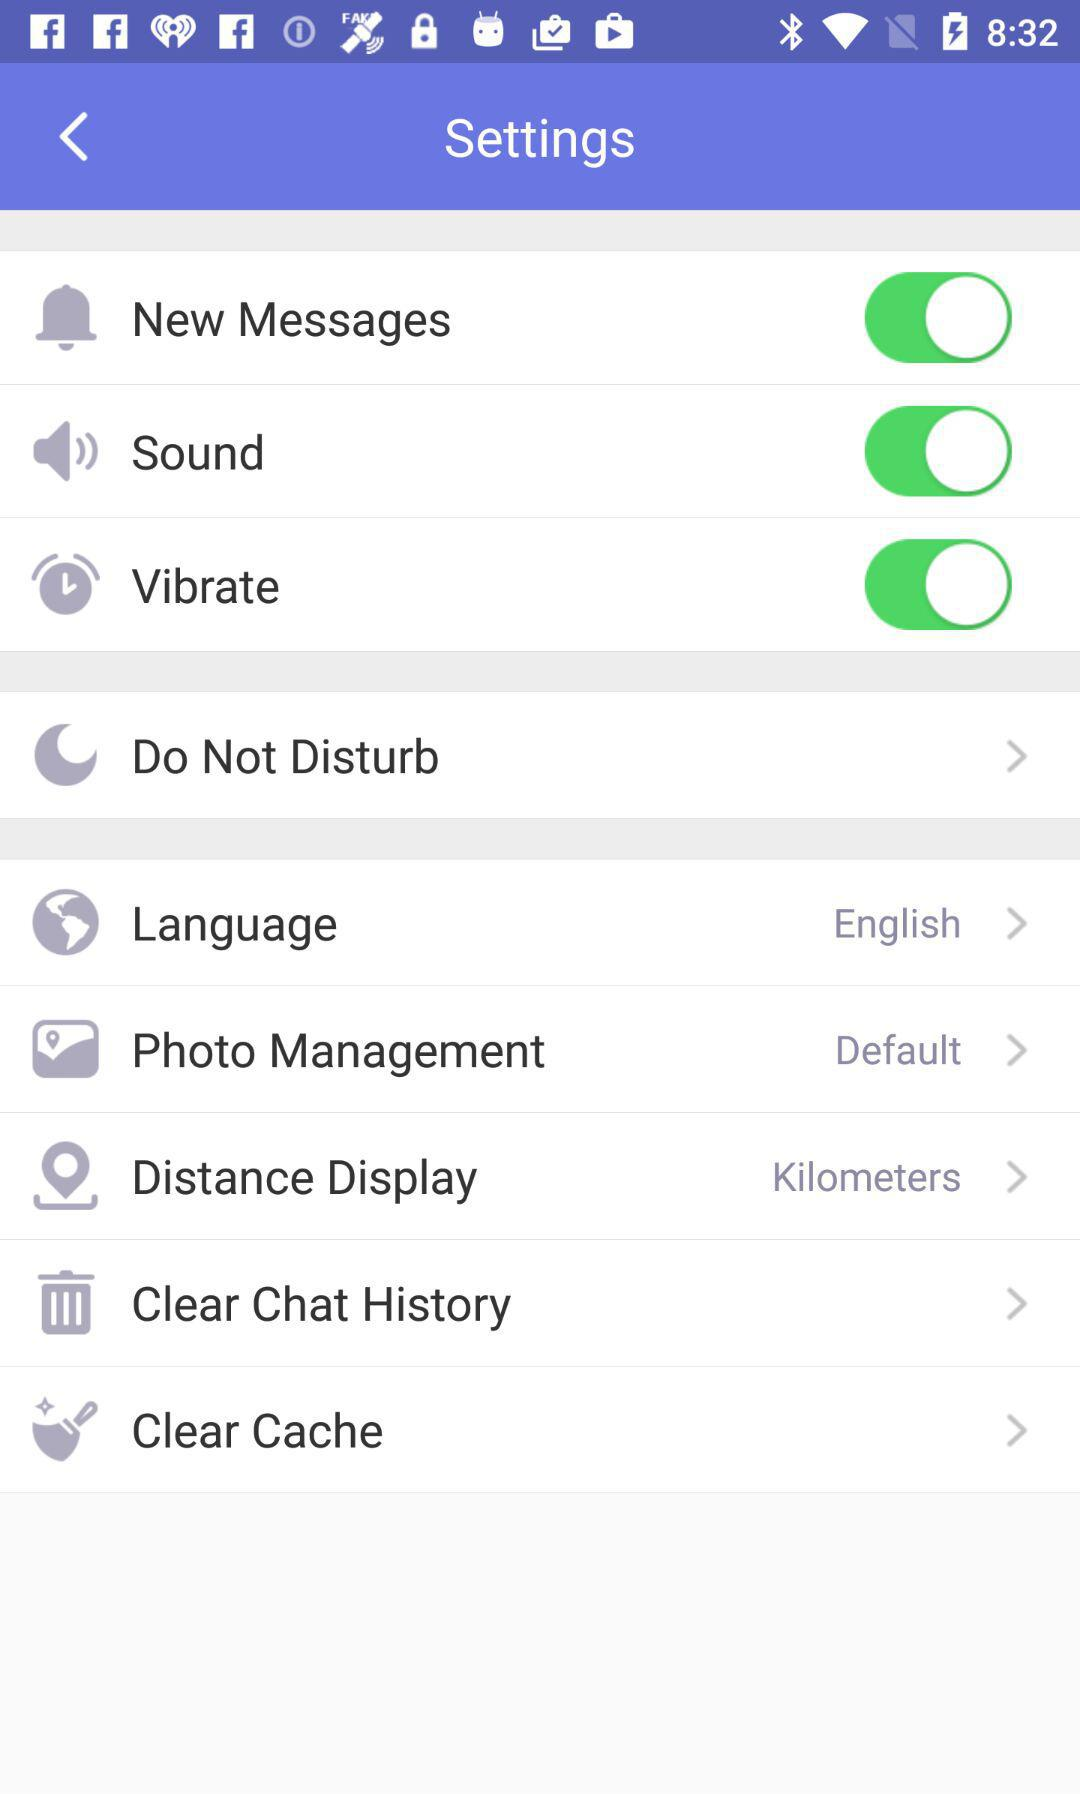Icon: (33, 1140, 100, 1211), (31, 552, 102, 616), (36, 284, 99, 352), (58, 111, 90, 164), (1004, 738, 1030, 774), (1004, 1158, 1029, 1196), (1004, 1412, 1029, 1448), (1004, 1285, 1029, 1321), (1004, 1032, 1029, 1067), (1004, 906, 1029, 942)
Image: (32, 888, 101, 957), (32, 1395, 100, 1463), (32, 1019, 101, 1080), (35, 723, 99, 788), (33, 420, 100, 483), (38, 1269, 97, 1337)
Switch: (863, 405, 1013, 498), (863, 272, 1013, 365), (863, 539, 1013, 632)
Text: (135, 1032, 547, 1079), (133, 1283, 512, 1333), (135, 1157, 479, 1206), (135, 300, 452, 349), (135, 736, 439, 777), (133, 1410, 384, 1451), (445, 118, 635, 170), (135, 906, 340, 952), (774, 1160, 961, 1193), (131, 566, 281, 606), (835, 906, 961, 950), (133, 432, 264, 473), (837, 1032, 962, 1067)
Toolbar: (1, 64, 1080, 211)
UpperTaskBar: (1, 1, 1080, 64)
